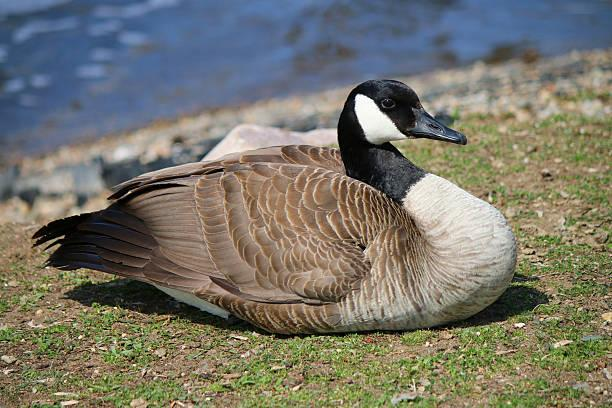Canadian-Goose: (34, 78, 519, 335)
